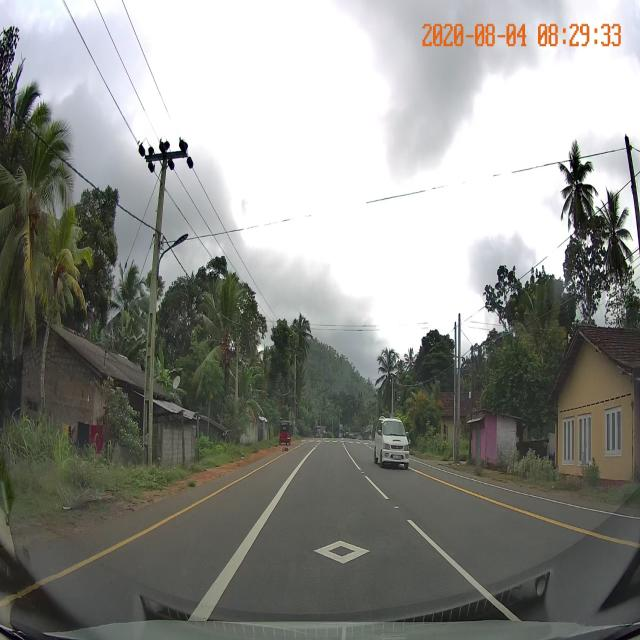diamond: (176, 520, 524, 625)
